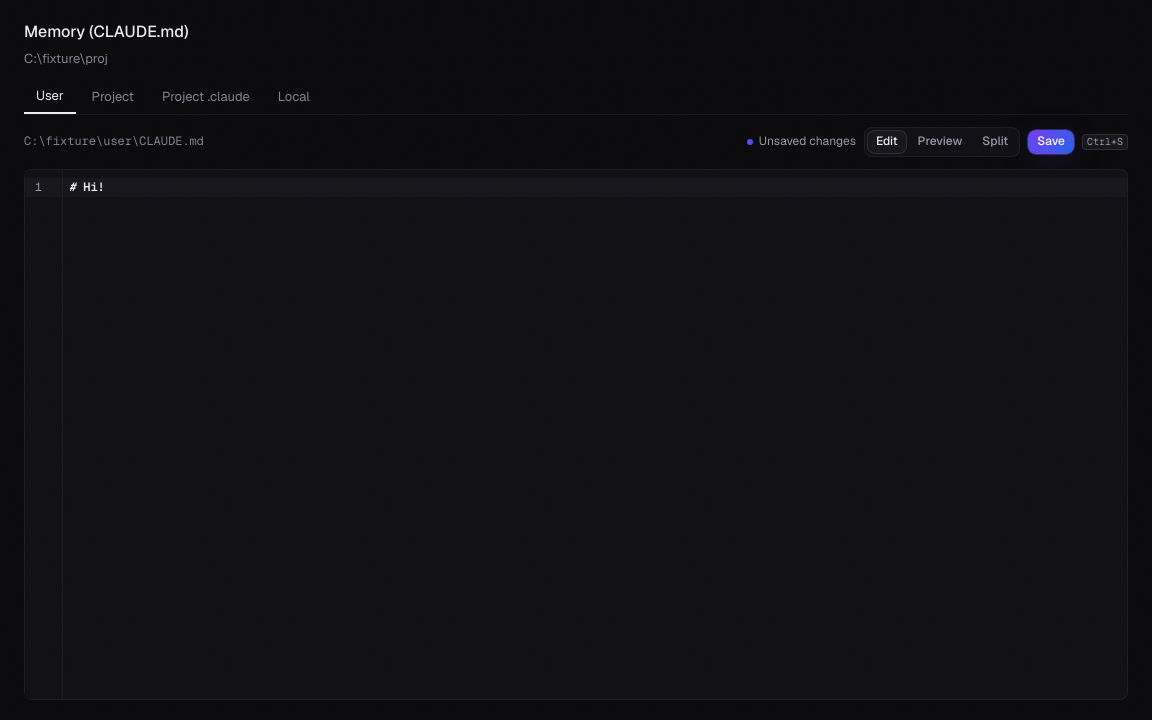
Test: MemoryPage › shows dirty indicator and save sends the current hash
Check: the element with test id "dirty-indicator" is shown, box [747,133,856,150]
Click the button "Save": click(1051, 142) [1028,130,1074,154]
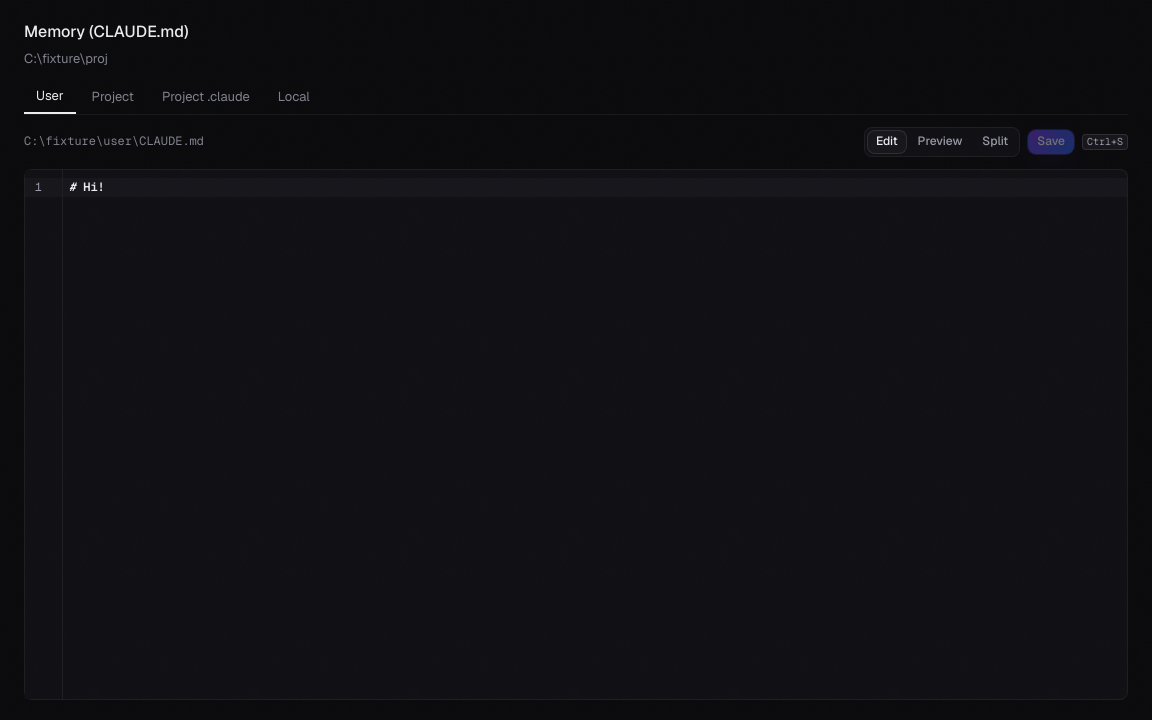
Check: the element with test id "dirty-indicator" is gone
